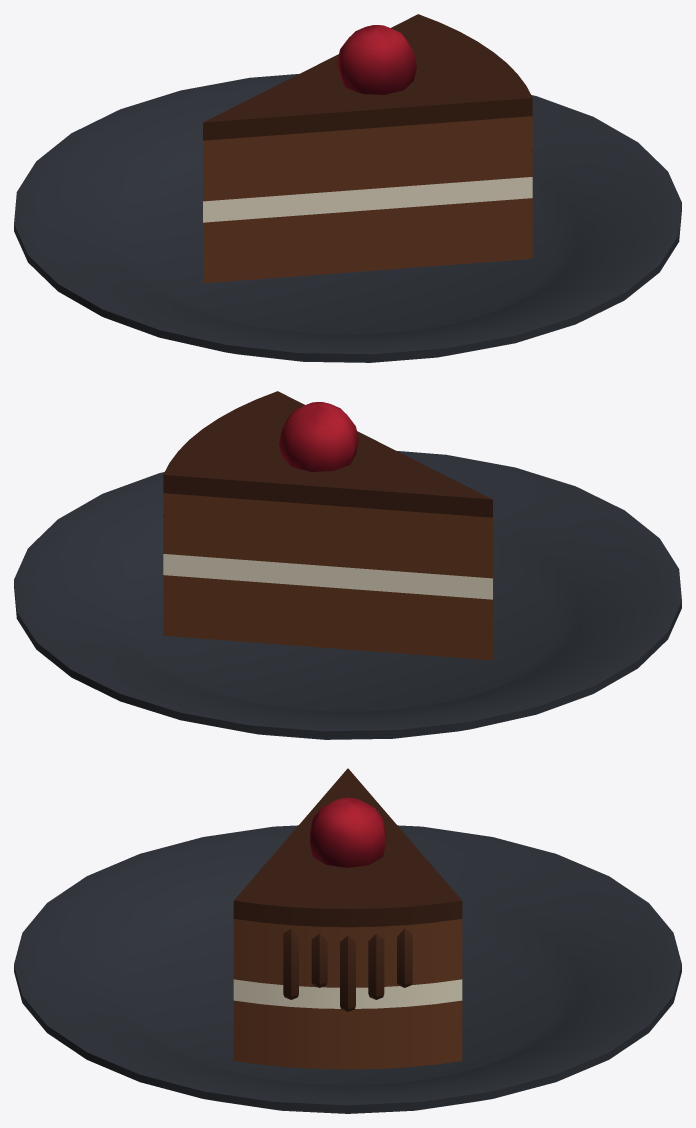
Rendered from bakery_cake_slice_chocolate.glb.
3 renders of one model, top to bottom at view 1: azimuth 30°, elevation 25°; view 2: azimuth 150°, elevation 25°; view 3: azimuth 270°, elevation 25°, orthographic.
Visible parts, largest first — view 1: bakery_cake_slice_chocolate; view 2: bakery_cake_slice_chocolate; view 3: bakery_cake_slice_chocolate.
Boxes of the visible parts, x1,y1,x2,y2 form: bakery_cake_slice_chocolate: [14, 14, 681, 362]; bakery_cake_slice_chocolate: [14, 391, 681, 739]; bakery_cake_slice_chocolate: [14, 768, 681, 1113].
Size of the model in its own units: 0.2 by 0.078 by 0.2.
5 materials, 1 textured.
